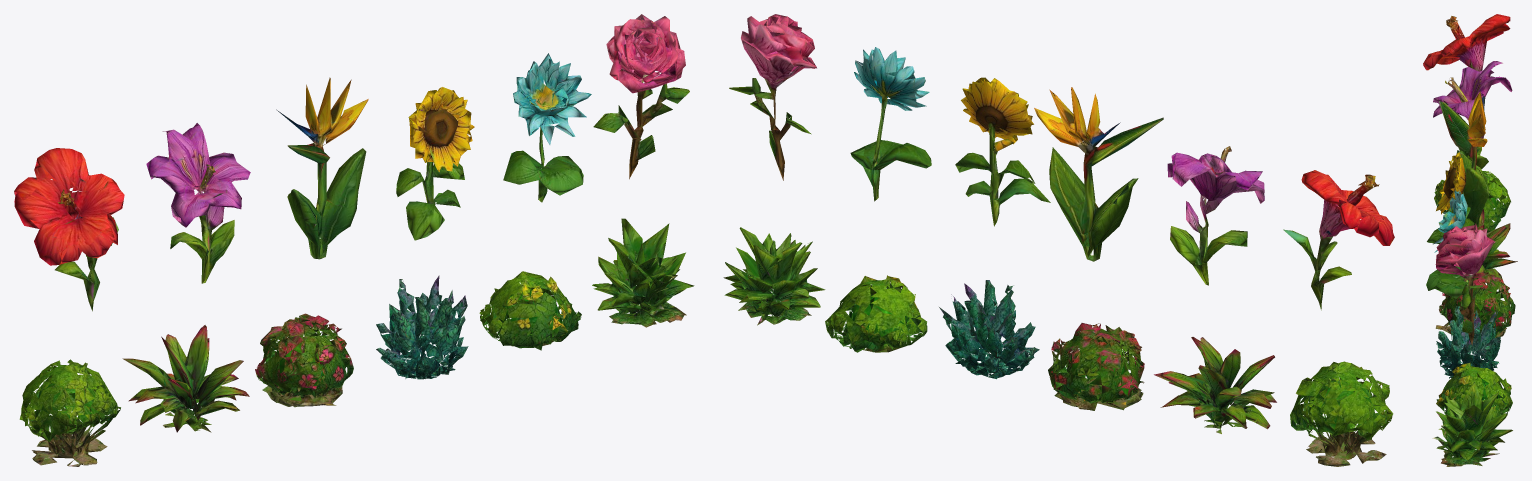
File: buesche.glb
The picture shows the model from 3 angles, left to right: view 1: azimuth 30°, elevation 25°; view 2: azimuth 150°, elevation 25°; view 3: azimuth 270°, elevation 25°; orthographic projection. The views are drawn at different scales.
Bounding box in the file's own units: 1.89 × 0.8375 × 0.2987.
1 material, 1 textured.
